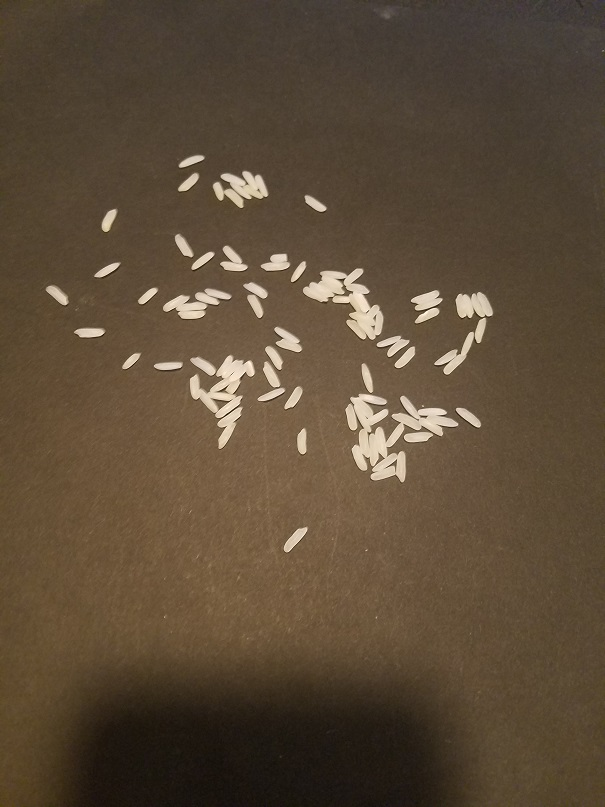egg: (283, 526, 310, 553), (187, 353, 217, 377), (214, 395, 245, 418), (216, 408, 246, 428), (198, 386, 220, 413), (212, 352, 234, 379), (455, 406, 482, 428), (217, 422, 238, 450), (391, 413, 423, 431), (393, 346, 417, 370), (94, 260, 121, 280), (221, 357, 244, 380), (443, 354, 467, 376), (385, 422, 405, 448), (120, 348, 143, 370), (174, 233, 195, 257), (162, 294, 190, 312), (372, 453, 398, 472), (419, 418, 445, 437), (263, 361, 281, 388), (353, 404, 371, 431), (46, 285, 70, 305), (192, 251, 216, 271), (400, 395, 420, 419), (350, 397, 374, 417), (374, 426, 388, 460), (413, 308, 441, 325), (265, 346, 284, 371), (243, 281, 269, 299), (370, 465, 397, 482), (303, 194, 327, 213), (284, 386, 303, 410), (387, 339, 411, 358), (247, 294, 265, 319), (411, 297, 443, 311), (274, 326, 300, 343), (309, 281, 335, 298), (230, 180, 252, 200), (411, 290, 440, 305), (352, 444, 368, 471), (349, 311, 376, 327), (433, 349, 458, 366), (303, 286, 328, 303), (477, 292, 494, 317), (178, 173, 199, 193), (256, 388, 286, 402), (346, 319, 366, 340), (367, 409, 389, 428), (426, 415, 458, 428), (178, 154, 205, 169), (276, 338, 303, 353), (101, 208, 117, 233), (226, 366, 247, 385), (225, 188, 244, 209), (138, 287, 160, 305), (368, 434, 380, 467), (341, 268, 364, 285), (357, 393, 387, 406), (361, 363, 374, 393), (220, 171, 246, 186), (223, 245, 243, 264), (344, 402, 357, 431), (460, 331, 475, 356), (72, 326, 106, 337), (357, 318, 374, 340), (290, 260, 306, 283), (188, 372, 201, 400), (209, 378, 235, 392), (319, 281, 345, 295), (175, 301, 208, 312), (195, 291, 219, 306), (353, 293, 371, 313), (204, 288, 231, 301), (474, 318, 487, 344), (255, 174, 269, 198), (151, 361, 184, 371), (359, 429, 370, 459), (396, 451, 406, 484), (404, 432, 434, 443), (462, 294, 475, 319), (376, 336, 403, 348), (242, 171, 258, 191), (219, 261, 248, 272), (471, 294, 484, 318), (206, 390, 237, 400), (177, 310, 207, 320), (348, 294, 363, 313), (297, 427, 307, 455), (243, 185, 263, 199), (260, 262, 290, 271), (343, 284, 370, 294), (224, 379, 244, 392), (456, 293, 466, 319), (321, 276, 344, 287), (320, 270, 348, 279), (417, 408, 448, 416), (244, 359, 257, 378), (213, 182, 225, 202), (374, 311, 383, 336), (269, 253, 289, 263), (332, 295, 351, 304), (368, 304, 380, 317)
